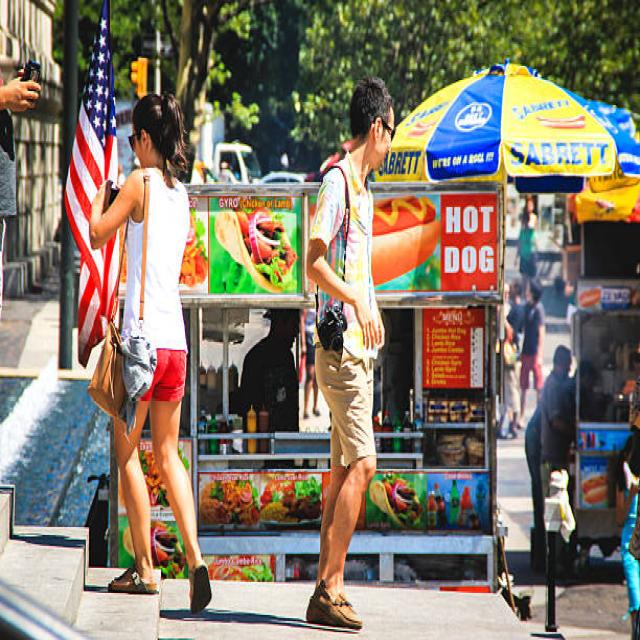Emperan: (108, 157, 530, 632)
